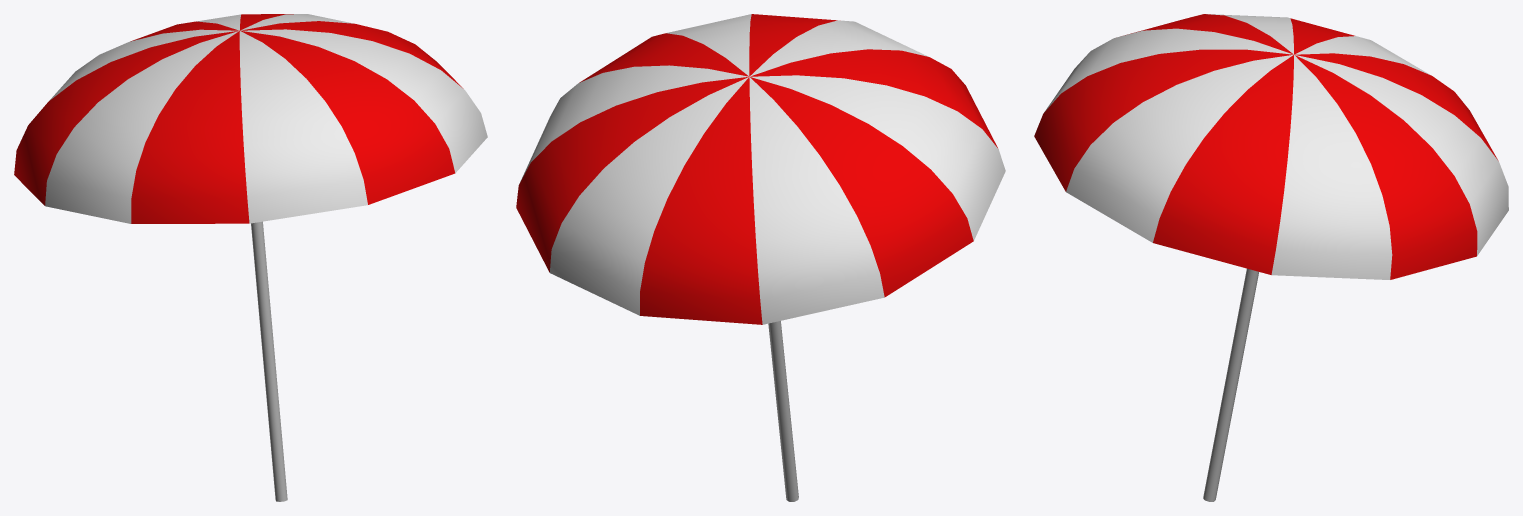
File: parasol rood.fbx
3 views of the same model, side by side, from view 1: azimuth 30°, elevation 25°; view 2: azimuth 150°, elevation 25°; view 3: azimuth 270°, elevation 25° (orthographic). The views are drawn at different scales.
Parts seen in each view (by area): view 1: Cylinder; view 2: Cylinder; view 3: Cylinder.
Part boxes in pixels (x1,y1,x2,y2): Cylinder: [14, 14, 487, 501]; Cylinder: [516, 14, 1005, 501]; Cylinder: [1034, 14, 1508, 501].
Size of the model in its own units: 3.7 by 3.82 by 3.65.
